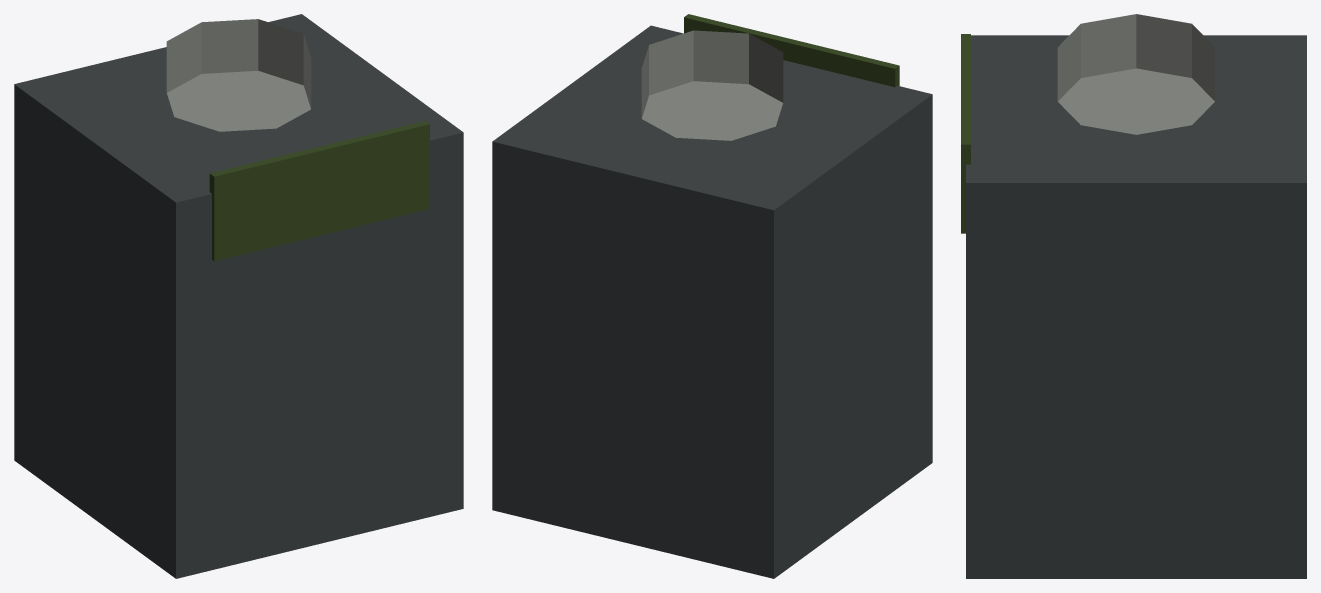
Rendered from font.glb.
The picture shows the model from 3 angles, left to right: view 1: azimuth 30°, elevation 25°; view 2: azimuth 150°, elevation 25°; view 3: azimuth 270°, elevation 25°; orthographic projection. The views are drawn at different scales.
Visible parts, largest first — view 1: body; view 2: body; view 3: body.
Boxes of the visible parts, x1,y1,x2,y2 form: body: (14, 14, 463, 578); body: (492, 14, 932, 578); body: (961, 14, 1306, 578).
Size of the model in its own units: 0.64 by 0.925 by 0.633.
1 material, 1 textured.
